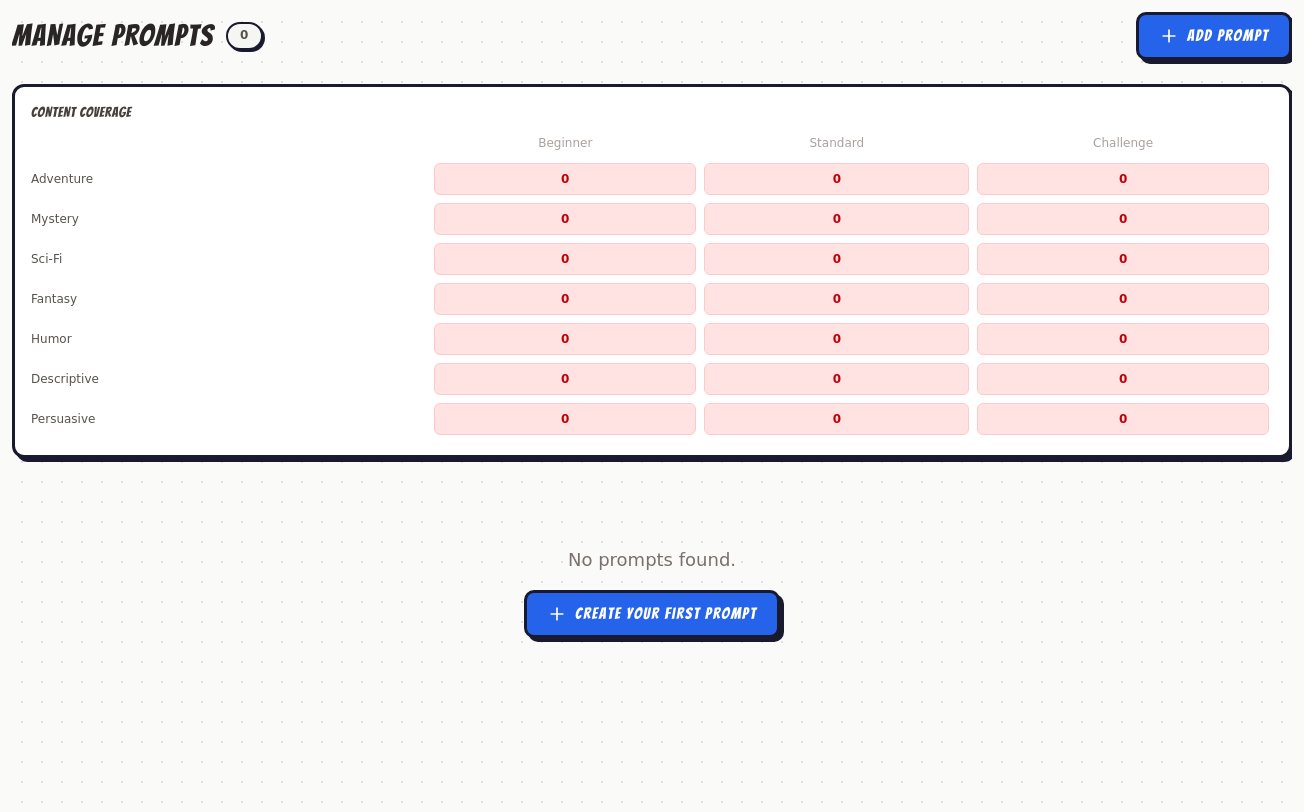
Scenario: AdminPrompts › Create form › shows validation errors for empty form submission
The image size is (1304, 812).
Click the button "Create your first prompt" at (652, 614), box [524,590,780,638]
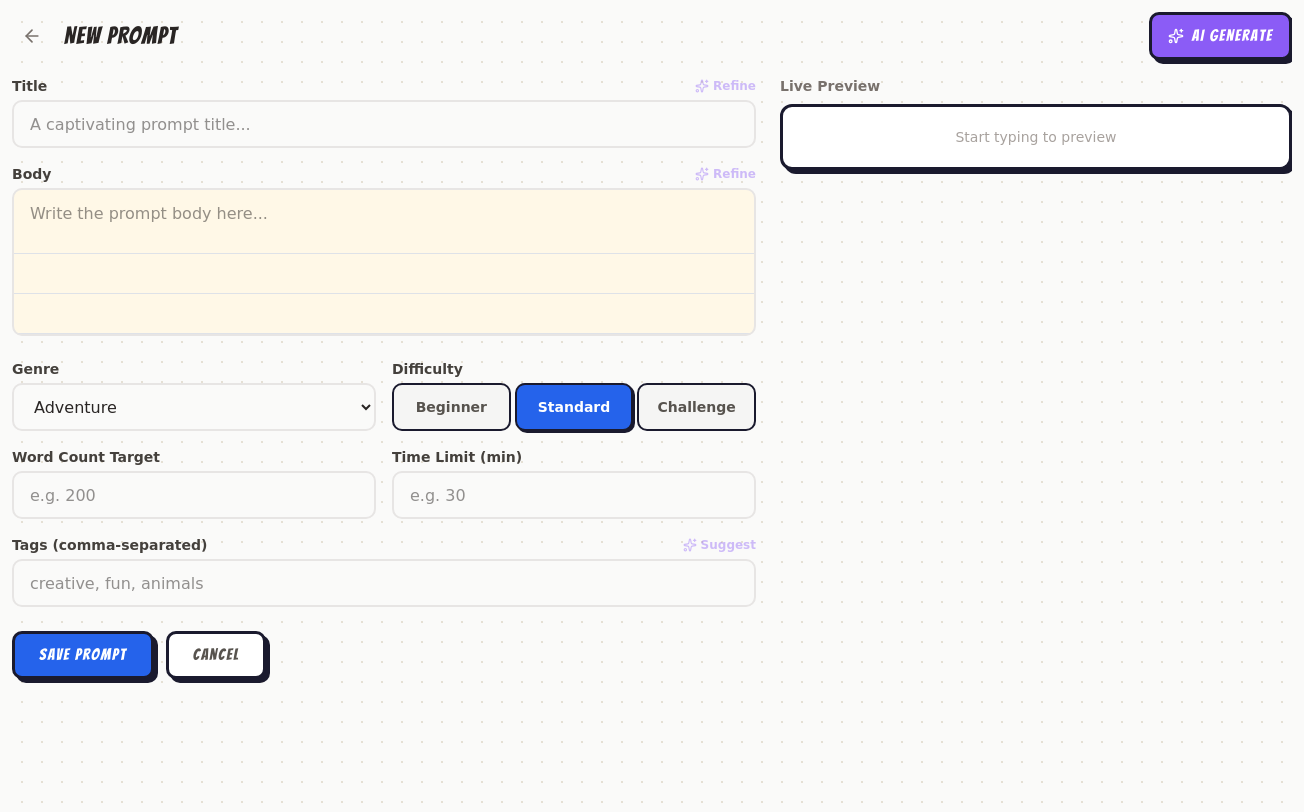
Submit empty form
Click the button "Save Prompt" at (83, 655), box [12,631,154,679]
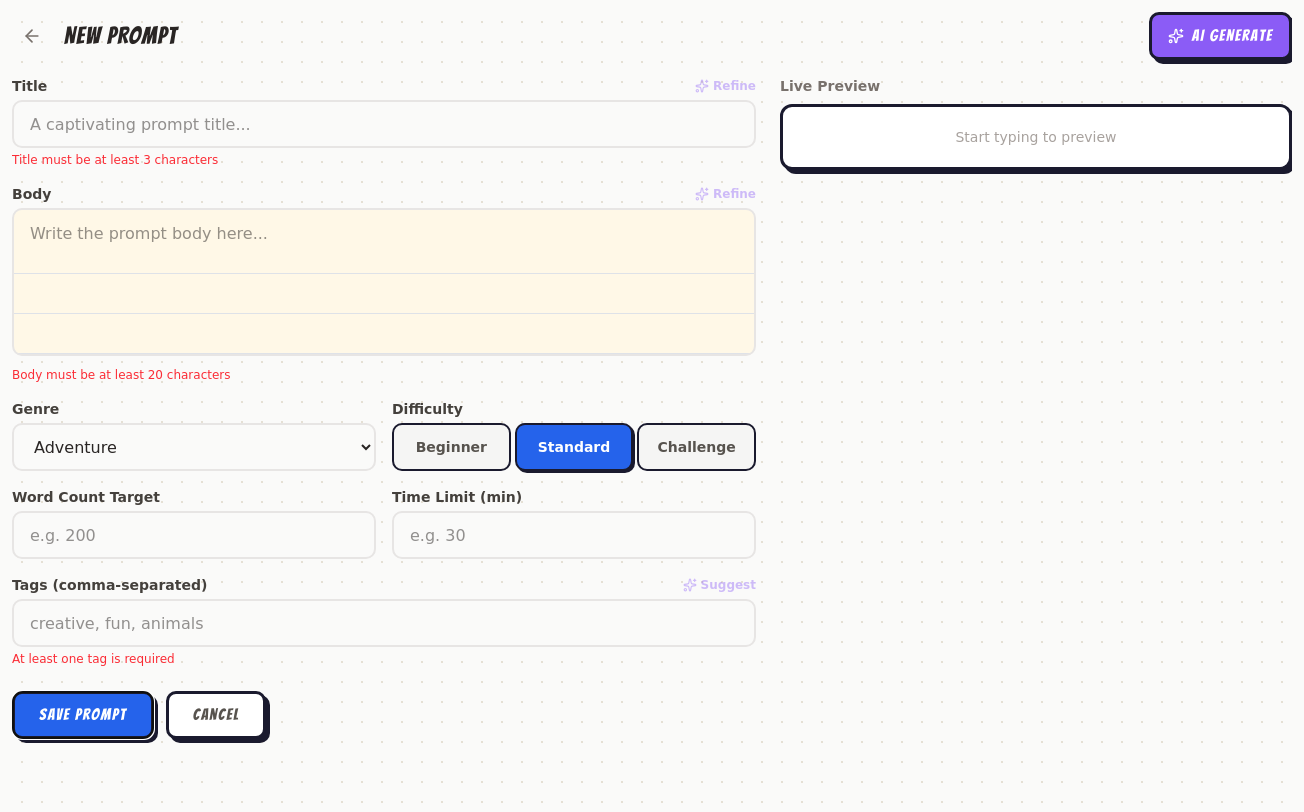
Check: the text "Title must be at least 3 characters" is shown, box [12,153,218,167]
Check: the text "Body must be at least 20 characters" is shown, box [12,368,230,382]
Check: the text "At least one tag is required" is shown, box [12,652,175,666]
